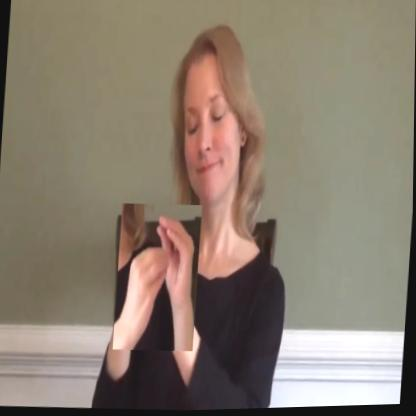Fix: (113, 202, 203, 354)
